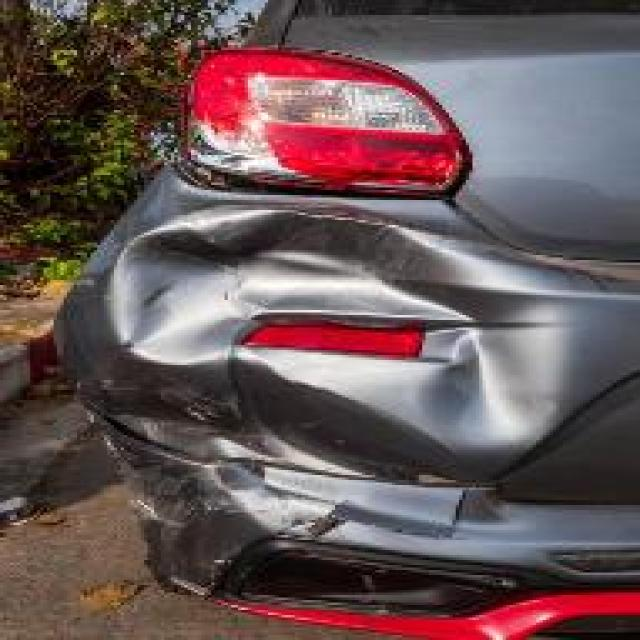Bumper: (27, 178, 640, 628)
Light: (161, 48, 466, 195)
